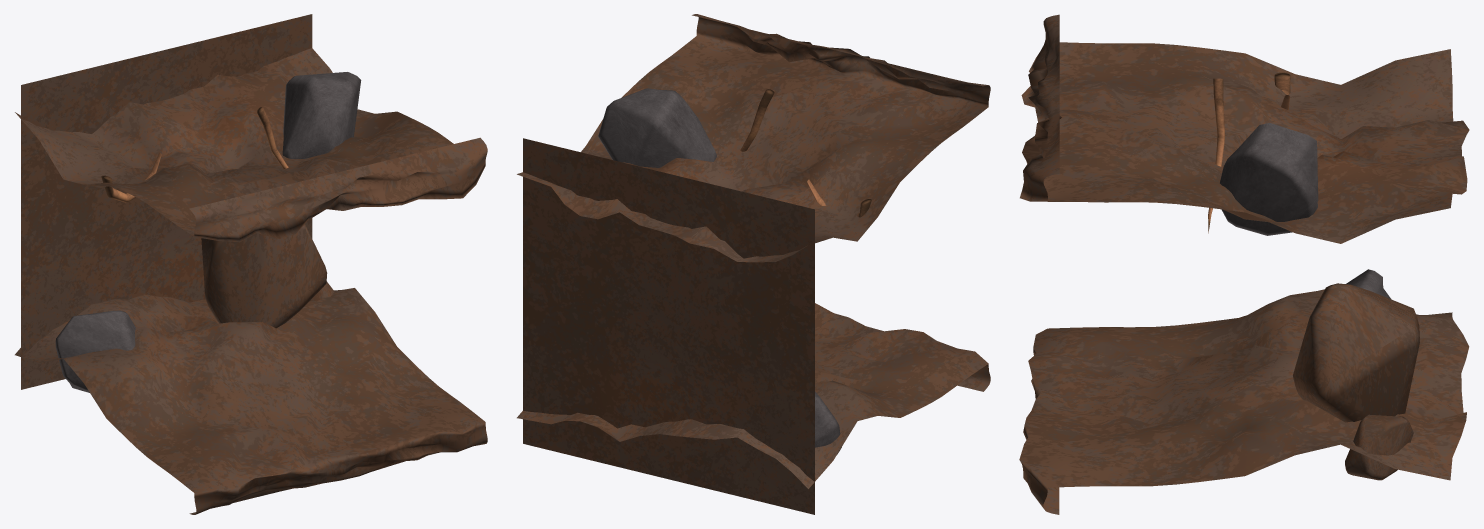
File: BackgroundScene_04.fbx
3 views of the same model, side by side, from view 1: azimuth 30°, elevation 25°; view 2: azimuth 150°, elevation 25°; view 3: azimuth 270°, elevation 25° (orthographic). The views are drawn at different scales.
Parts seen in each view (by area): view 1: BackgroundScene_04; view 2: BackgroundScene_04; view 3: BackgroundScene_04.
Part boxes in pixels (<box>): BackgroundScene_04: <box>15,14,487,514</box>; BackgroundScene_04: <box>517,14,990,514</box>; BackgroundScene_04: <box>1019,14,1469,514</box>.
Bounding box in the file's own units: 10 × 10.45 × 11.96.
